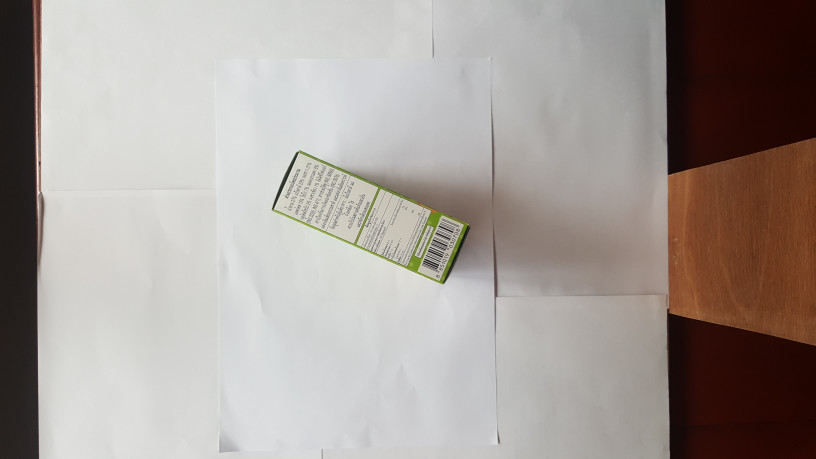collon-matcha: (270, 150, 469, 285)
